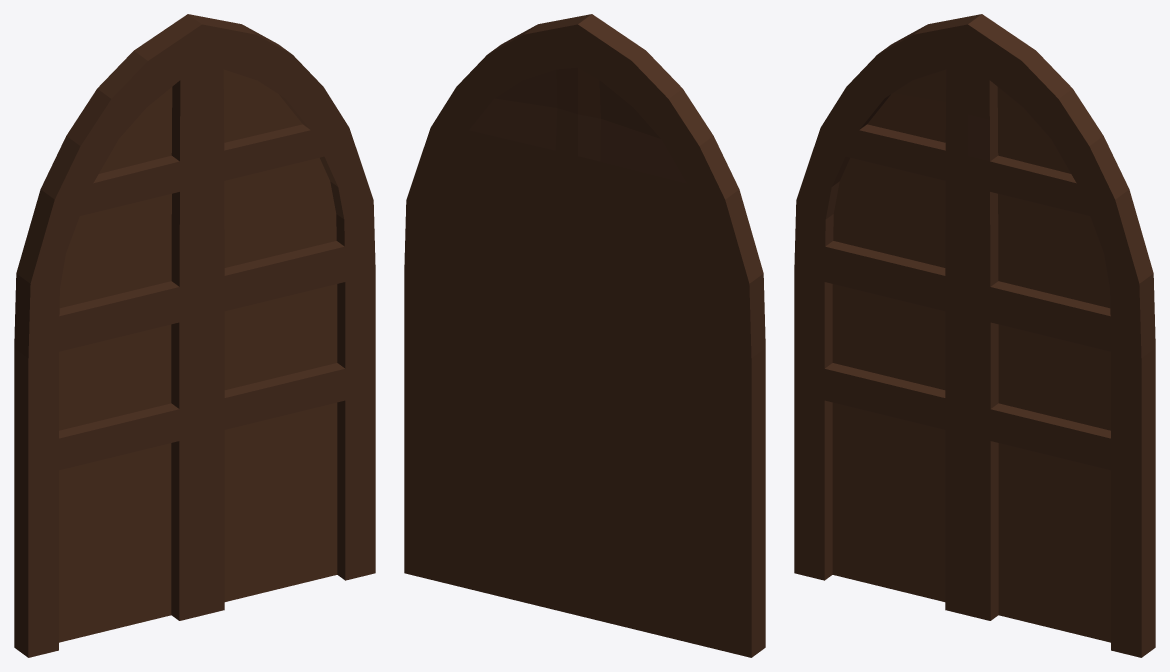
Rendered from Principle_Door_.fbx.
3 views of the same model, side by side, from view 1: azimuth 30°, elevation 25°; view 2: azimuth 150°, elevation 25°; view 3: azimuth 330°, elevation 25° (orthographic).
Parts seen in each view (by area): view 1: P.Door Piece 2, P.Door Piece 1; view 2: P.Door Piece 2, P.Door Piece 1; view 3: P.Door Piece 1, P.Door Piece 2.
Part boxes in pixels (bbox=[...]): P.Door Piece 2: bbox=[14, 14, 201, 657]; P.Door Piece 1: bbox=[188, 14, 375, 615]; P.Door Piece 2: bbox=[578, 14, 765, 657]; P.Door Piece 1: bbox=[404, 14, 591, 615]; P.Door Piece 1: bbox=[968, 14, 1155, 657]; P.Door Piece 2: bbox=[794, 14, 981, 615].
Bounding box in the file's own units: 386 × 629 × 27.46.
